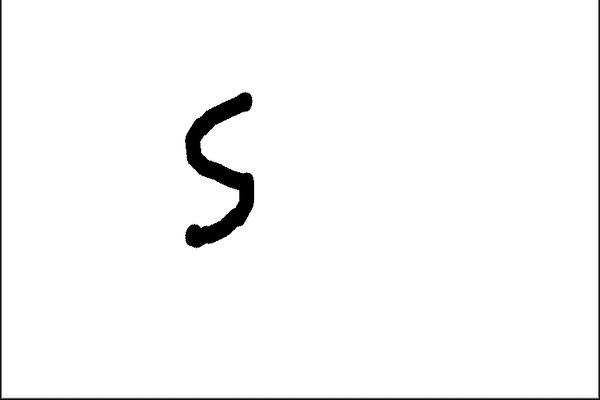S: (169, 81, 268, 259)
